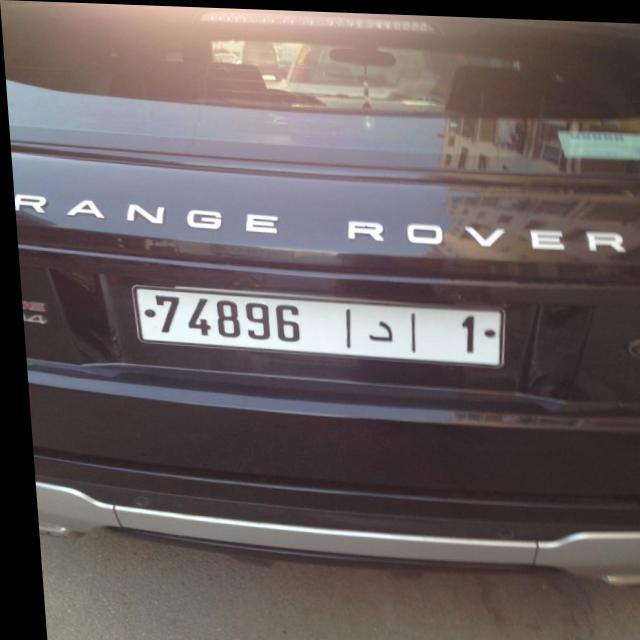License-Plate: (130, 286, 498, 362)
